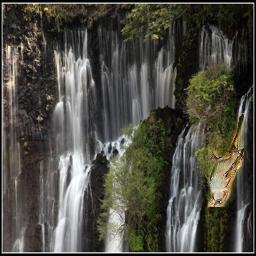Sparrow: (208, 113, 244, 207)
